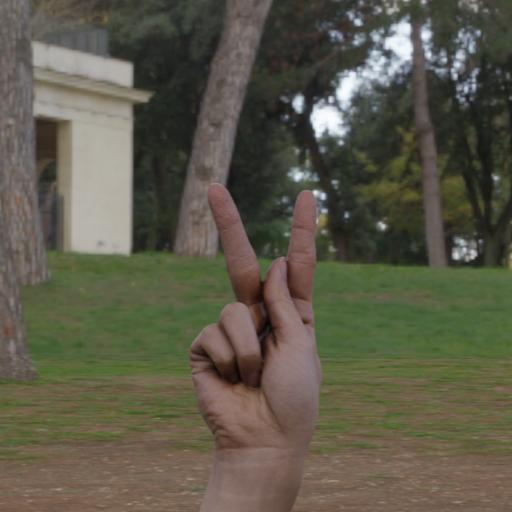K: (181, 172, 330, 512)
